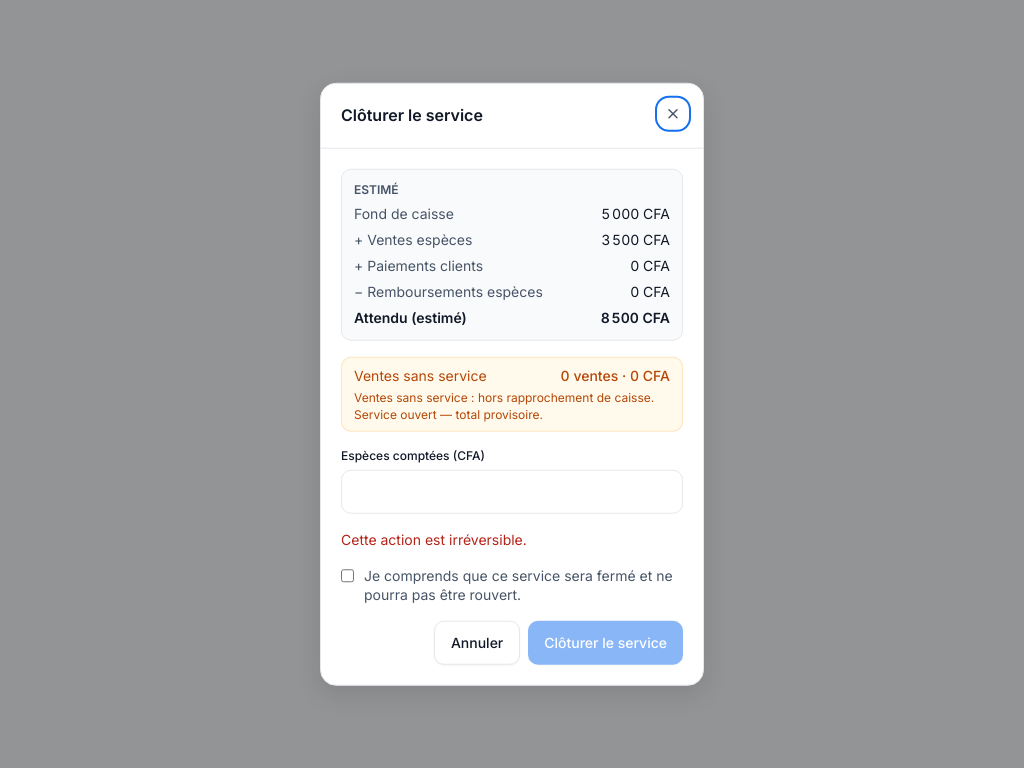
Scenario: CloseShiftModal › handles SHIFT_NOT_OPEN without a second close
The image size is (1024, 768).
Type "0" into the field labelled "Espèces comptées (CFA)".
click(512, 492); type("0")  # box 341,470 -> 683,514
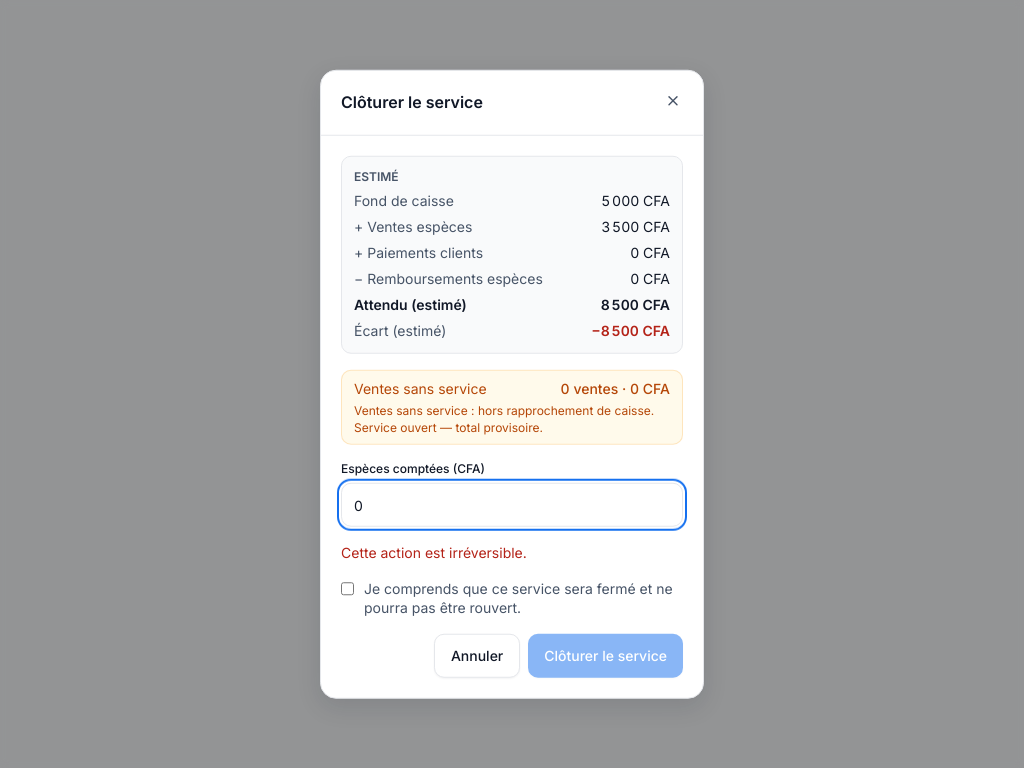
Click the checkbox.
click(348, 589)  # box 341,581 -> 354,597
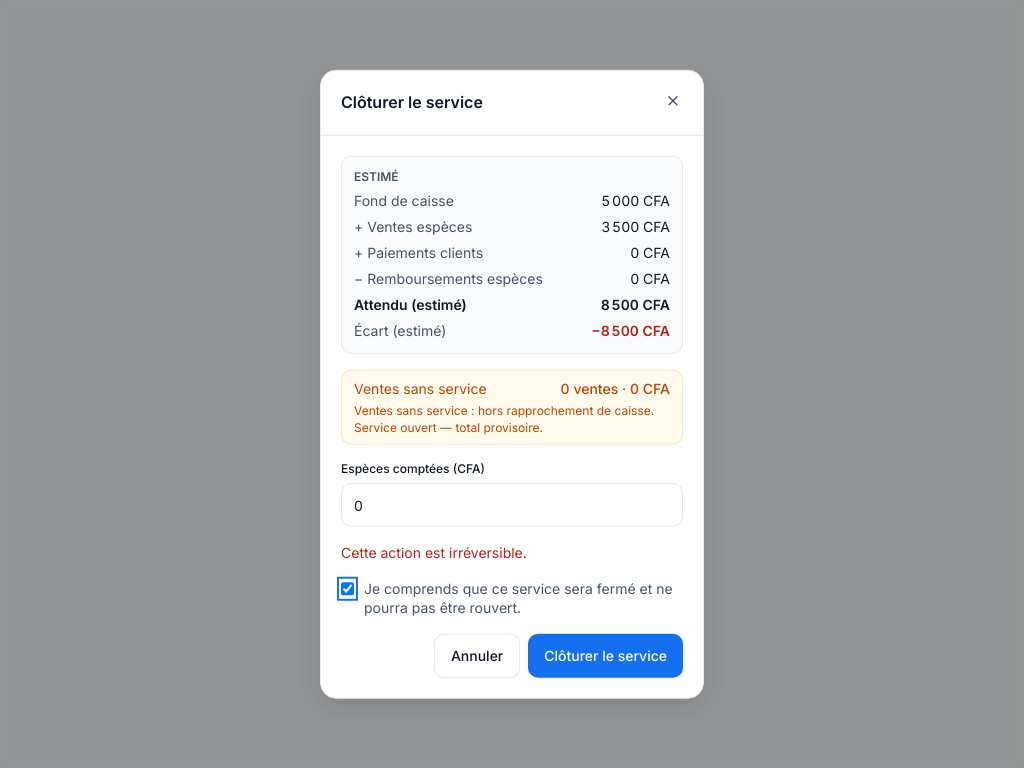
Click the button "Clôturer le service".
click(606, 655)  # box 528,633 -> 683,677
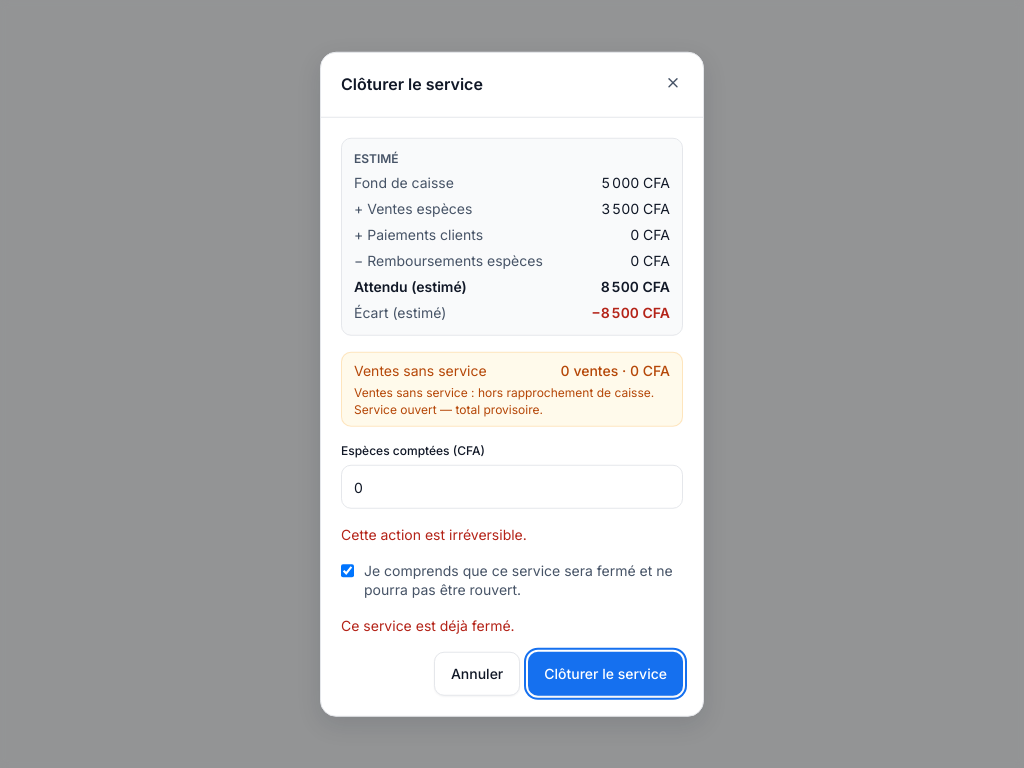
Expected: the text "Ce service est déjà fermé." is shown, 341,616 -> 515,633
